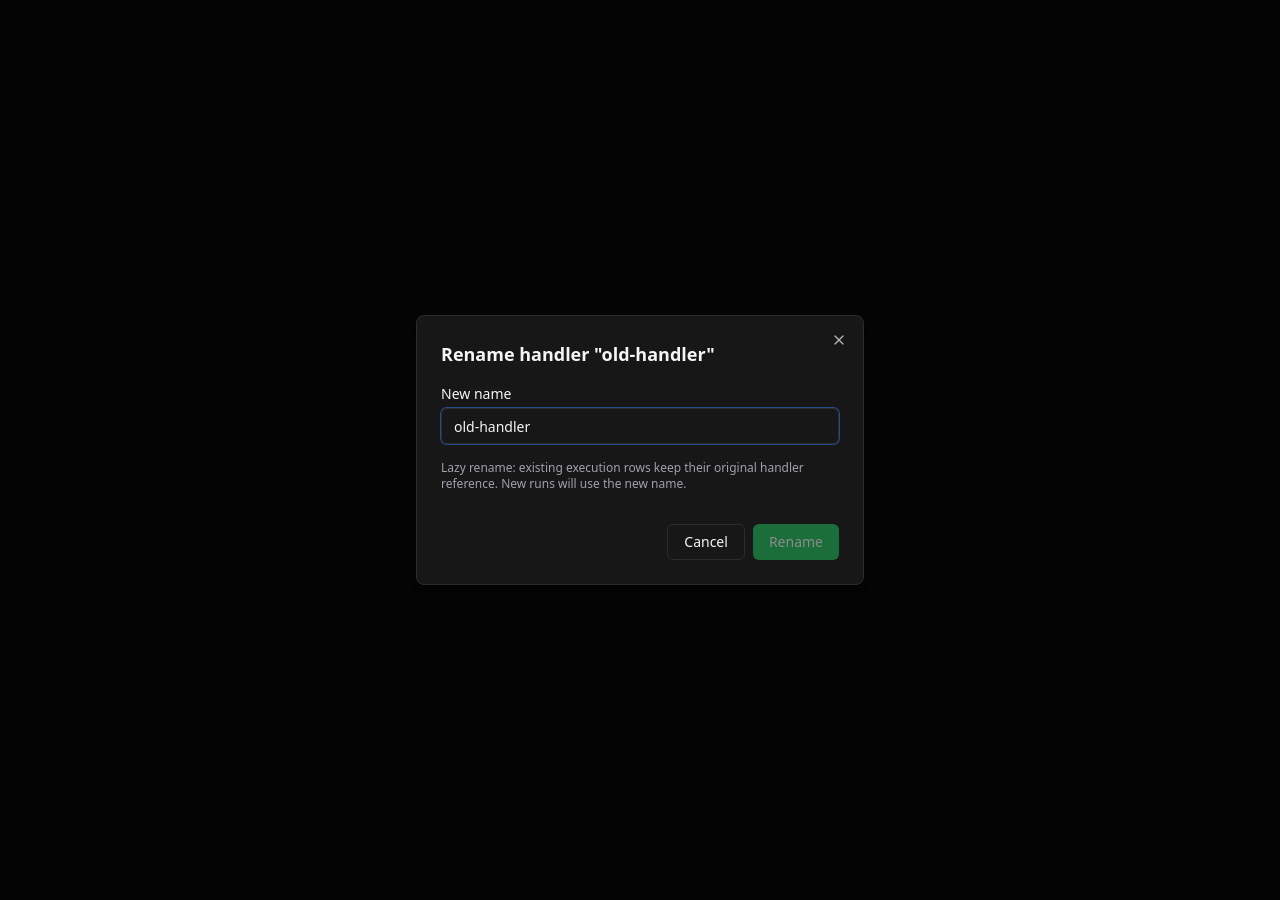
Test: RenameHandlerDialog › shows inline error banner on HandlerExists and keeps dialog open
This screenshot has width=1280, height=900.
Replace the text in the field labelled "New name" with "new-handler" at (640, 426), box [441,408,839,444]
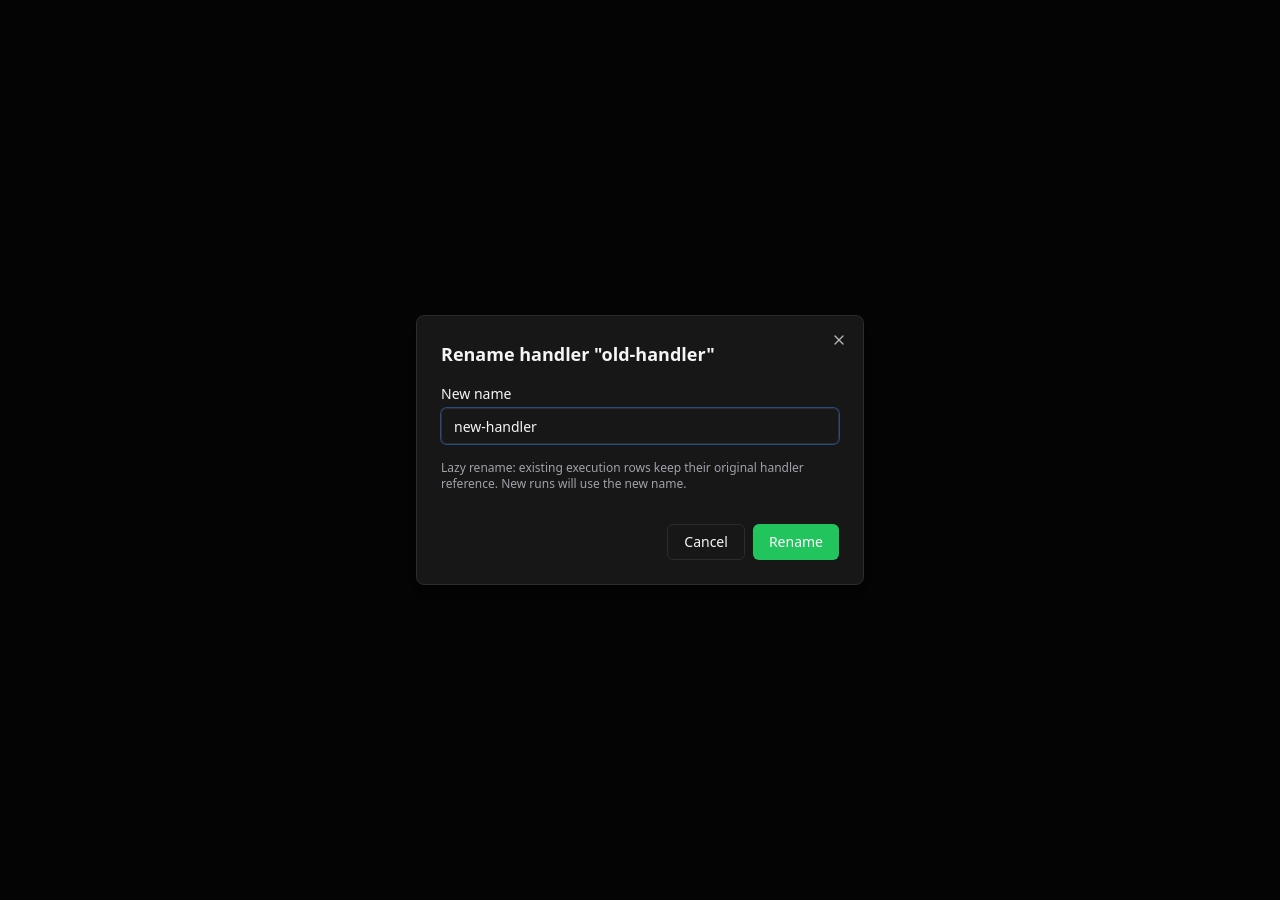
Click the button "Rename" at (796, 542), box [753,524,839,560]
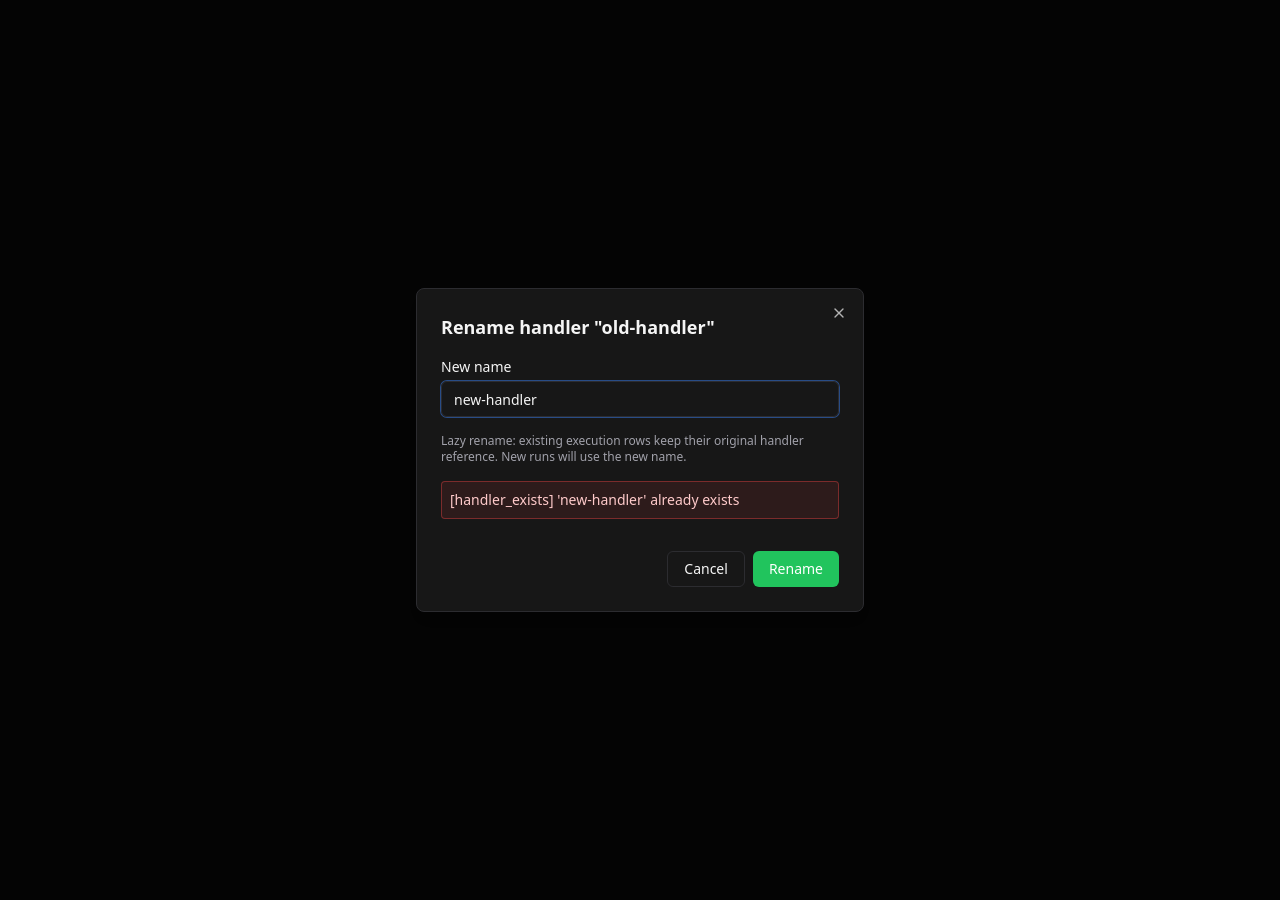
Now the text "[handler_exists] 'new-handler' already exists" is shown, box [441,481,839,519]
